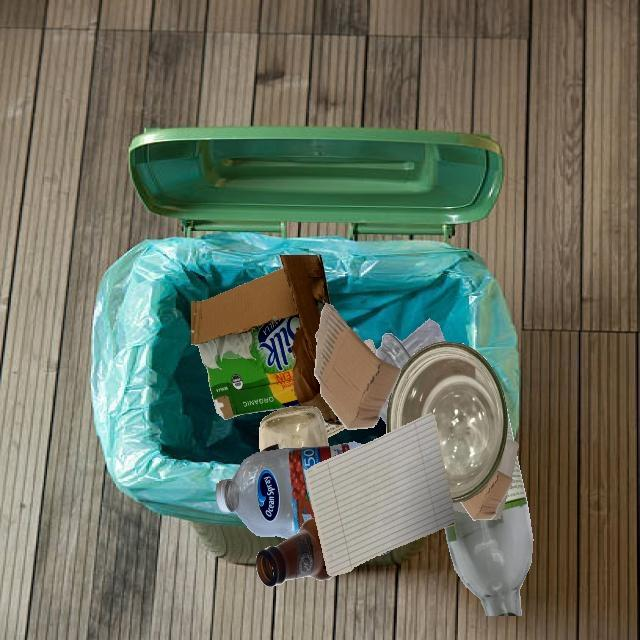cardboard: (191, 255, 342, 425), (314, 303, 401, 430), (460, 470, 513, 520)
glass: (386, 341, 509, 504), (444, 454, 533, 616), (256, 518, 334, 587), (259, 406, 329, 452)
paper: (306, 413, 454, 576), (324, 421, 346, 438), (363, 339, 377, 356)
plastic: (215, 442, 363, 539), (376, 319, 446, 370), (460, 461, 508, 515), (376, 548, 395, 556)
